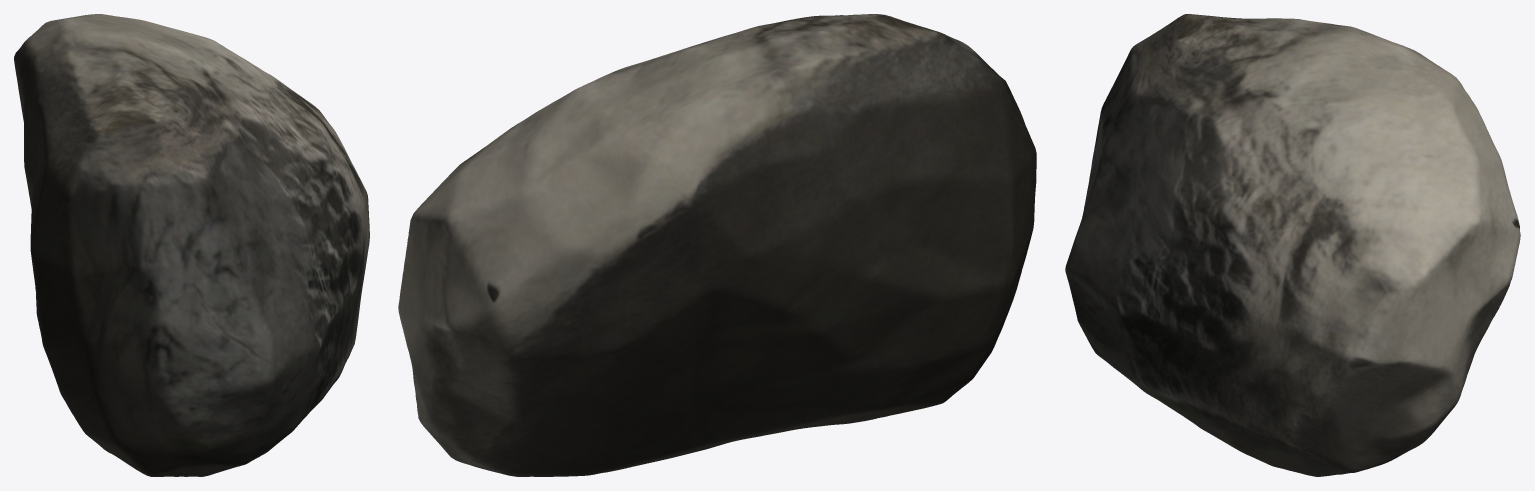
Rendered from Apophis.gltf.
The picture shows the model from 3 angles, left to right: view 1: azimuth 30°, elevation 25°; view 2: azimuth 150°, elevation 25°; view 3: azimuth 270°, elevation 25°; orthographic projection. The views are drawn at different scales.
Visible parts, largest first — view 1: Apophis; view 2: Apophis; view 3: Apophis.
Part boxes in pixels (left/top/right/bottom): Apophis: left=14, top=14, right=369, bottom=476; Apophis: left=398, top=14, right=1036, bottom=476; Apophis: left=1065, top=14, right=1520, bottom=476.
Size of the model in its own units: 1.92 by 1.73 by 1.99.
1 material, 1 textured.
